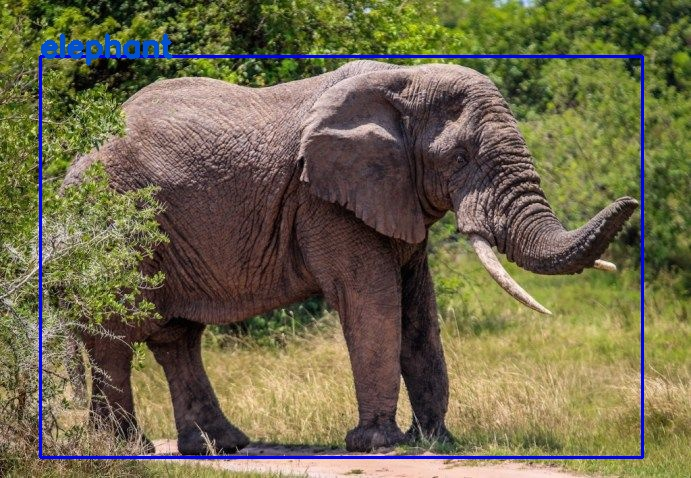elephant: (40, 56, 642, 457)
